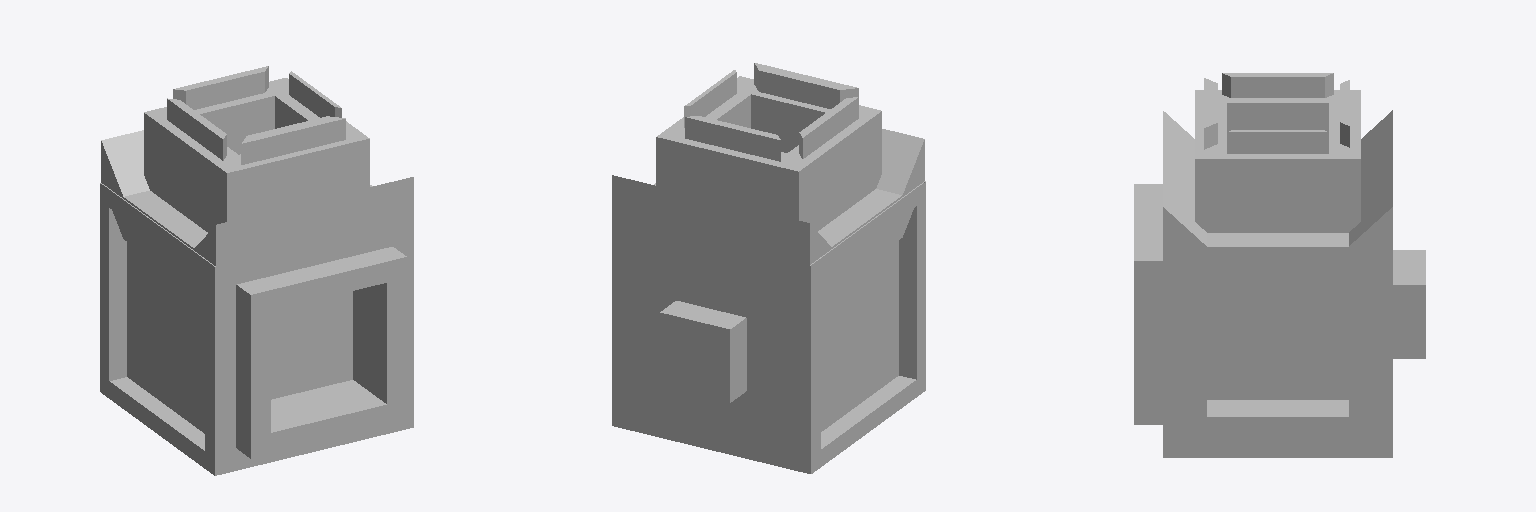
Rendered from Thing.obj.
3 renders of one model, left to right at view 1: azimuth 30°, elevation 25°; view 2: azimuth 150°, elevation 25°; view 3: azimuth 270°, elevation 25°, orthographic.
Visible parts, largest first — view 1: Cube; view 2: Cube; view 3: Cube.
Part boxes in pixels (left/top/right/bottom): Cube: left=100, top=66, right=413, bottom=475; Cube: left=612, top=63, right=925, bottom=473; Cube: left=1134, top=73, right=1425, bottom=457.
Bounding box in the file's own units: 2 × 2.93 × 2.53.